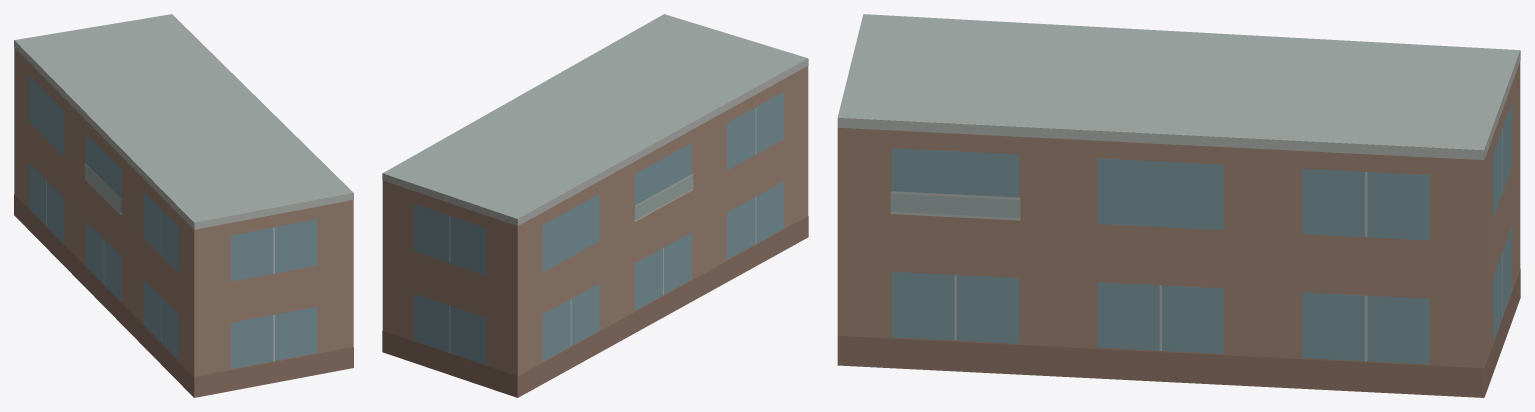
File: survey-upis-32659126.glb
The picture shows the model from 3 angles, left to right: view 1: azimuth 30°, elevation 25°; view 2: azimuth 150°, elevation 25°; view 3: azimuth 270°, elevation 25°; orthographic projection. The views are drawn at different scales.
Parts seen in each view (by area): view 1: survey-upis-32659126.tmp; view 2: survey-upis-32659126.tmp; view 3: survey-upis-32659126.tmp.
Boxes of the visible parts, left/top/right/bottom form: survey-upis-32659126.tmp: left=14, top=14, right=353, bottom=397; survey-upis-32659126.tmp: left=382, top=14, right=808, bottom=397; survey-upis-32659126.tmp: left=837, top=14, right=1520, bottom=397.
Bounding box in the file's own units: 7.21 × 6.1 × 15.26.
